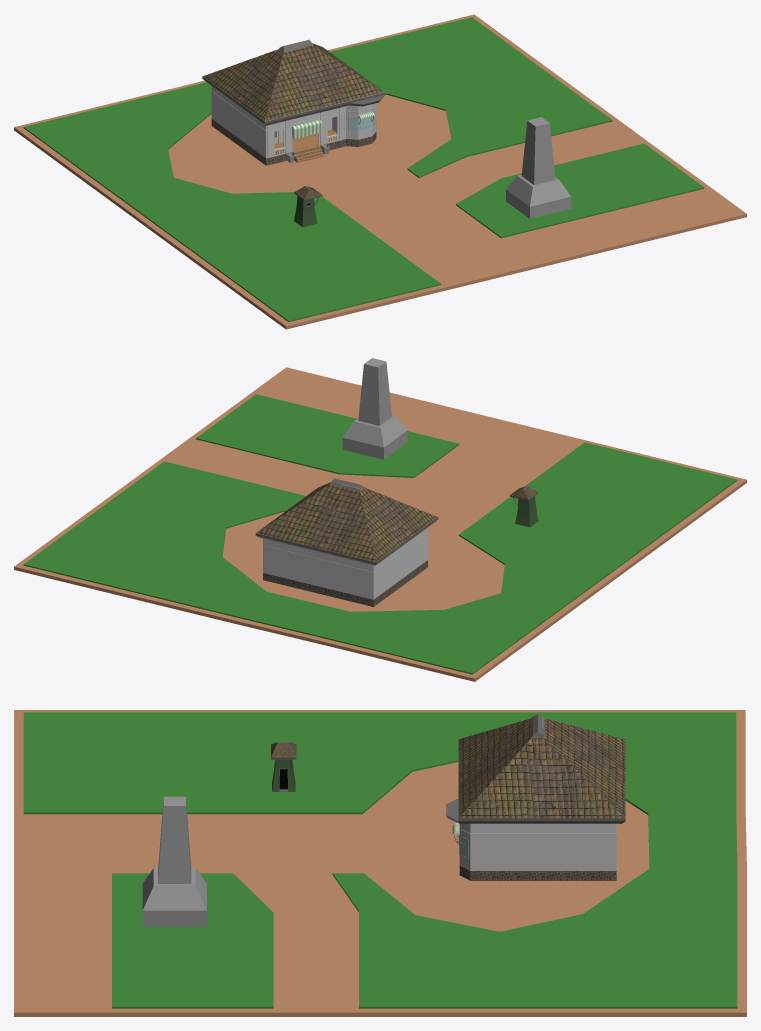
Rendered from Rumah Soekarno.fbx.
3 renders of one model, top to bottom at view 1: azimuth 30°, elevation 25°; view 2: azimuth 150°, elevation 25°; view 3: azimuth 270°, elevation 25°, orthographic. The views are drawn at different scales.
Parts seen in each view (by area): view 1: Plane.004, Plane.009, Plane.006, Plane.057; view 2: Plane.004, Plane.009, Plane.006, Plane.057; view 3: Plane.004, Plane.009, Plane.006, Plane.057.
Boxes of the visible parts, left/top/right/bottom form: Plane.004: left=14, top=14, right=746, bottom=329; Plane.009: left=202, top=39, right=384, bottom=165; Plane.006: left=506, top=117, right=571, bottom=218; Plane.057: left=294, top=186, right=322, bottom=227; Plane.004: left=14, top=367, right=746, bottom=681; Plane.009: left=255, top=478, right=438, bottom=606; Plane.006: left=342, top=358, right=407, bottom=459; Plane.057: left=509, top=486, right=538, bottom=527; Plane.004: left=14, top=710, right=746, bottom=1016; Plane.009: left=446, top=714, right=625, bottom=880; Plane.006: left=142, top=796, right=206, bottom=926; Plane.057: left=271, top=742, right=296, bottom=791.
Bounding box in the file's own units: 6617 × 1290 × 6778.
Materials: 5 (2 with a texture image).
